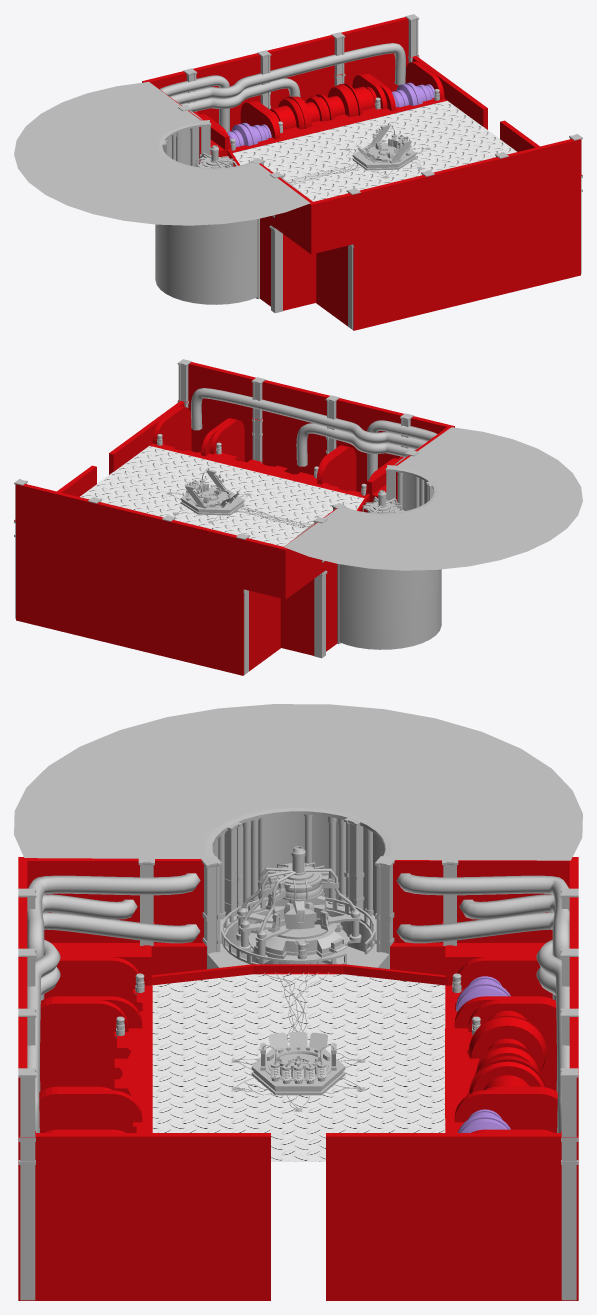
Rendered from PhaseOneArena.fbx.
3 renders of one model, top to bottom at view 1: azimuth 30°, elevation 25°; view 2: azimuth 150°, elevation 25°; view 3: azimuth 270°, elevation 25°, orthographic. The views are drawn at different scales.
Visible parts, largest first — view 1: Walls, cover plane, Wall square conductor.001, Machine base, BézierCurve.005, Large Gen, Frames, Command platform, Small Gen, BézierCurve.001, Plane.009, BézierCurve (+13 smaller); view 2: Walls, cover plane, Wall square conductor.001, Machine base, Frames, BézierCurve.005, Command platform, BézierCurve.001, Plane.056, BézierCurve, Plane.004, Plane.023 (+11 smaller); view 3: Walls, cover plane, Frames, Wall square conductor.001, Machine base, Machine base.002, BézierCurve, BézierCurve.005, BézierCurve.001, Large Gen, Command platform, Short Walls (+34 smaller).
Part boxes in pixels (x1,y1,x2,y2): Walls: (193, 55, 582, 330); cover plane: (14, 82, 310, 225); Wall square conductor.001: (142, 14, 582, 241); Machine base: (155, 120, 265, 304); BézierCurve.005: (170, 43, 405, 104); Large Gen: (270, 83, 376, 139); Frames: (199, 61, 444, 150); Command platform: (352, 124, 416, 170); Small Gen: (227, 82, 435, 152); BézierCurve.001: (181, 78, 300, 111); Plane.009: (279, 107, 394, 140); BézierCurve: (159, 75, 303, 194); Walls: (14, 400, 403, 675); cover plane: (284, 427, 582, 570); Wall square conductor.001: (14, 359, 454, 586); Machine base: (332, 465, 441, 649); Frames: (152, 406, 397, 512); BézierCurve.005: (191, 388, 426, 449); Command platform: (180, 469, 244, 515); BézierCurve.001: (296, 423, 415, 466); Plane.056: (203, 452, 317, 485); BézierCurve: (294, 420, 437, 538); Plane.004: (92, 468, 148, 495); Plane.023: (262, 511, 316, 536); Walls: (18, 922, 578, 1300); cover plane: (14, 704, 582, 860); Frames: (39, 957, 557, 1132); Wall square conductor.001: (18, 855, 578, 1137); Machine base: (200, 806, 396, 969); Machine base.002: (236, 846, 363, 964); BézierCurve: (27, 873, 569, 1000); BézierCurve.005: (27, 894, 569, 1132); BézierCurve.001: (39, 912, 557, 1091); Large Gen: (468, 1010, 546, 1094); Command platform: (251, 1040, 345, 1095); Short Walls: (149, 964, 447, 985).
Size of the model in its own units: 126 by 195 by 55.34.
